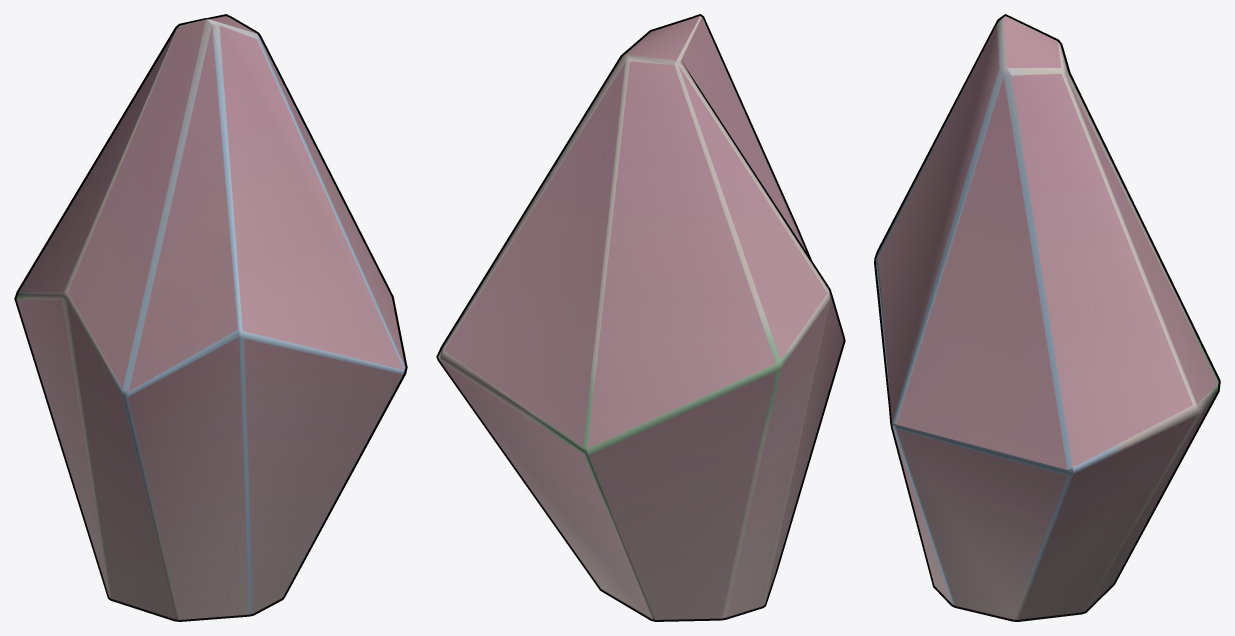
Rendered from pm-crystal-small-03.glb.
3 renders of one model, left to right at view 1: azimuth 30°, elevation 25°; view 2: azimuth 150°, elevation 25°; view 3: azimuth 270°, elevation 25°, orthographic. The views are drawn at different scales.
Visible parts, largest first — view 1: Crystal_Small_03; view 2: Crystal_Small_03; view 3: Crystal_Small_03.
Part boxes in pixels (box(x1,y1,x2,y2)): Crystal_Small_03: box(14, 14, 407, 621); Crystal_Small_03: box(436, 14, 845, 621); Crystal_Small_03: box(874, 14, 1220, 621).
Bounding box in the file's own units: 1.23 × 1.91 × 1.05.
2 materials, 1 textured.
